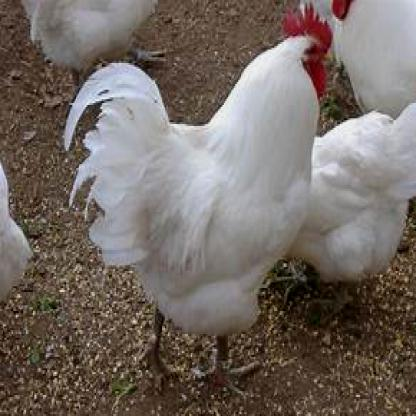chicken: (63, 6, 333, 389)
